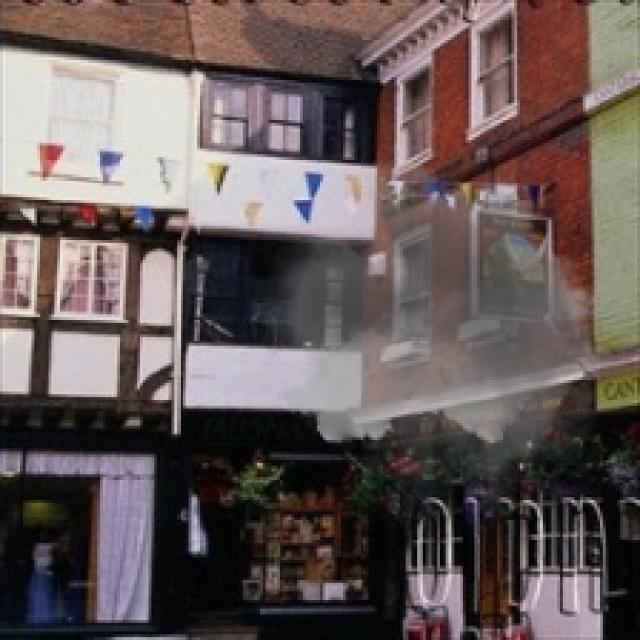smoke: (263, 143, 617, 520)
